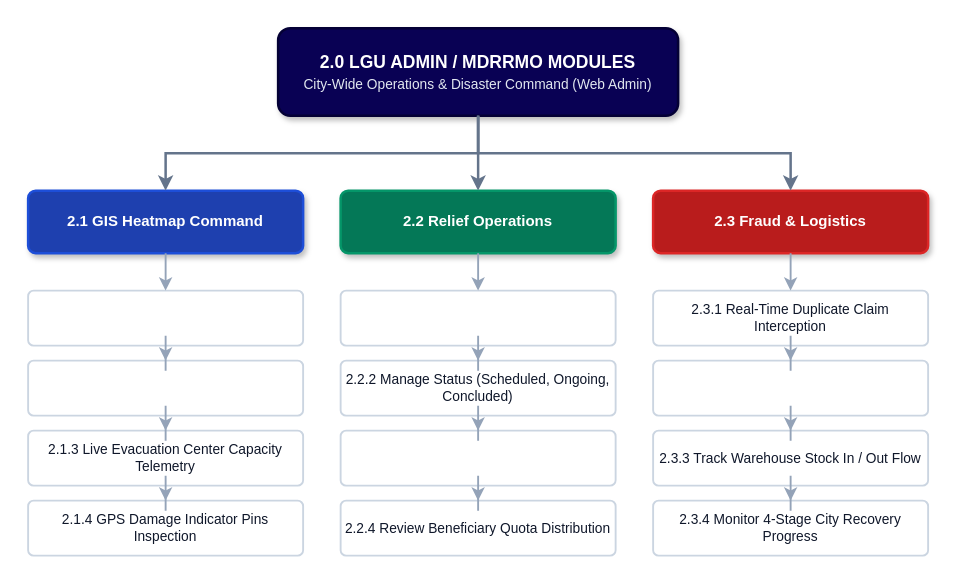
Image size: 958x578. Some labels were removed from this diagram. Here are the shapes that lost their labels. From the top down, the centre of each, then its label:
At pixel 165 317: "2.1.1 Interactive 897-Barangay Vector Map".
At pixel 477 317: "2.2.1 Schedule Distribution Events".
At pixel 165 387: "2.1.2 Flood Inundation Hazard Overlays".
At pixel 790 387: "2.3.2 Audit Log Inspection & Filter".
At pixel 477 457: "2.2.3 Broadcast Alerts to Resident Mobile Apps".
